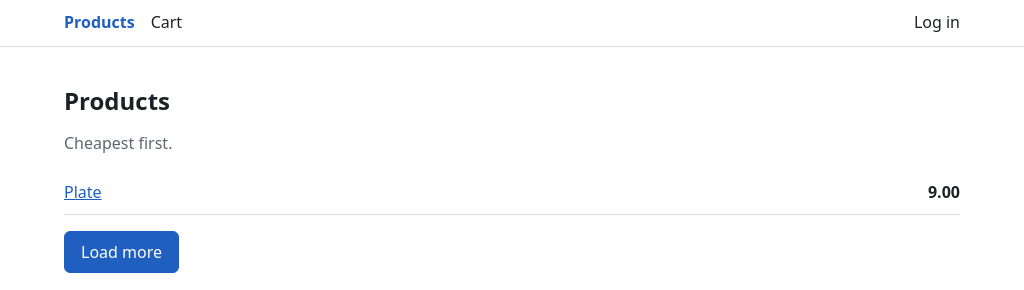
Test: the product list › shows the first page and loads more with the cursor until there is no next page
Check: the link "Plate" is shown, box left=64, top=180, right=102, bottom=204
Click the button "Load more" at (122, 252), box left=64, top=231, right=179, bottom=273
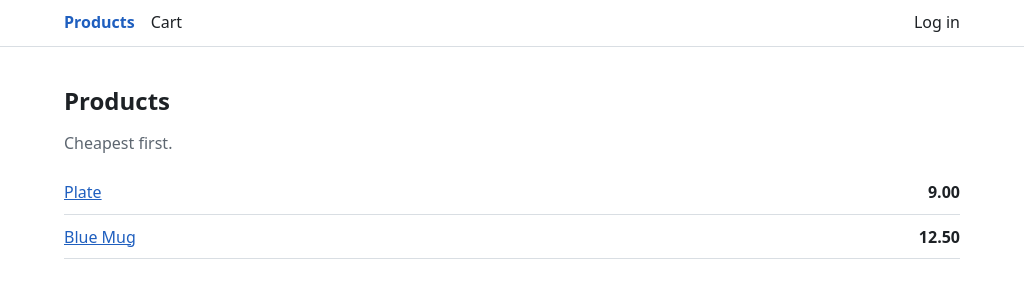
Check: the link "Plate" is shown, box left=64, top=180, right=102, bottom=204
Check: the link "Blue Mug" is shown, box left=64, top=225, right=136, bottom=249
Check: the button "Load more" is gone
